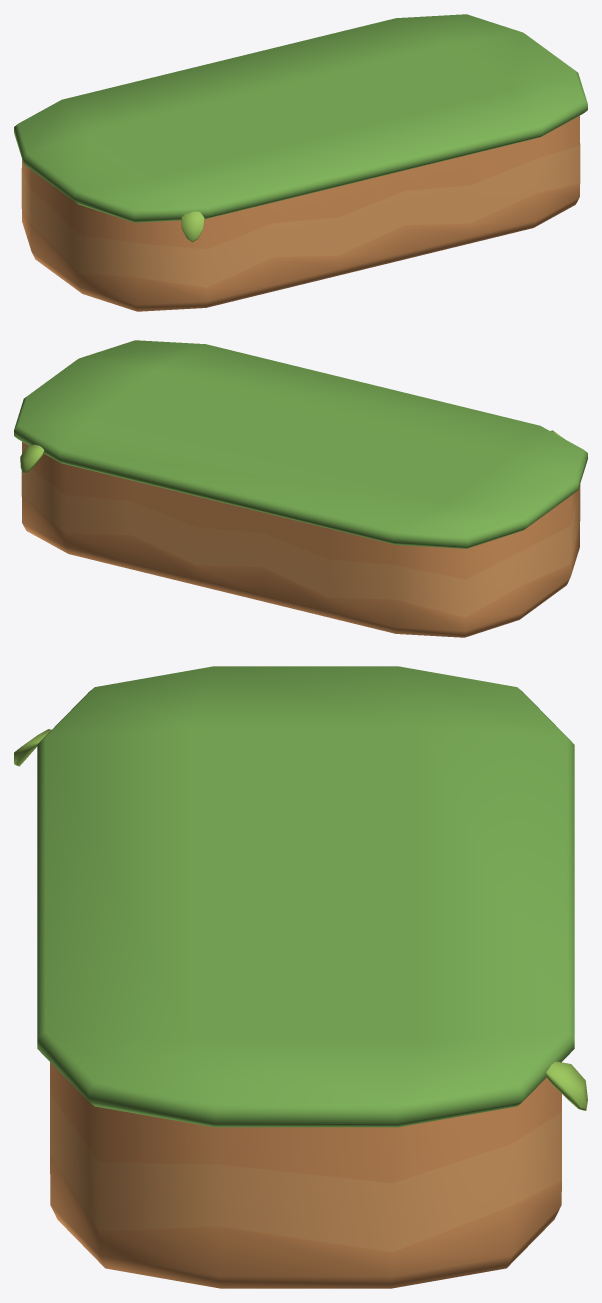
File: platform_kit026.fbx
The picture shows the model from 3 angles, top to bottom: view 1: azimuth 30°, elevation 25°; view 2: azimuth 150°, elevation 25°; view 3: azimuth 270°, elevation 25°; orthographic projection. The views are drawn at different scales.
Visible parts, largest first — view 1: platform_kit026; view 2: platform_kit026; view 3: platform_kit026.
Part boxes in pixels (x1,y1,x2,y2): platform_kit026: (14,14,587,311); platform_kit026: (14,340,587,637); platform_kit026: (14,666,587,1288).
Bounding box in the file's own units: 410 × 84.96 × 224.
1 material, 1 textured.
